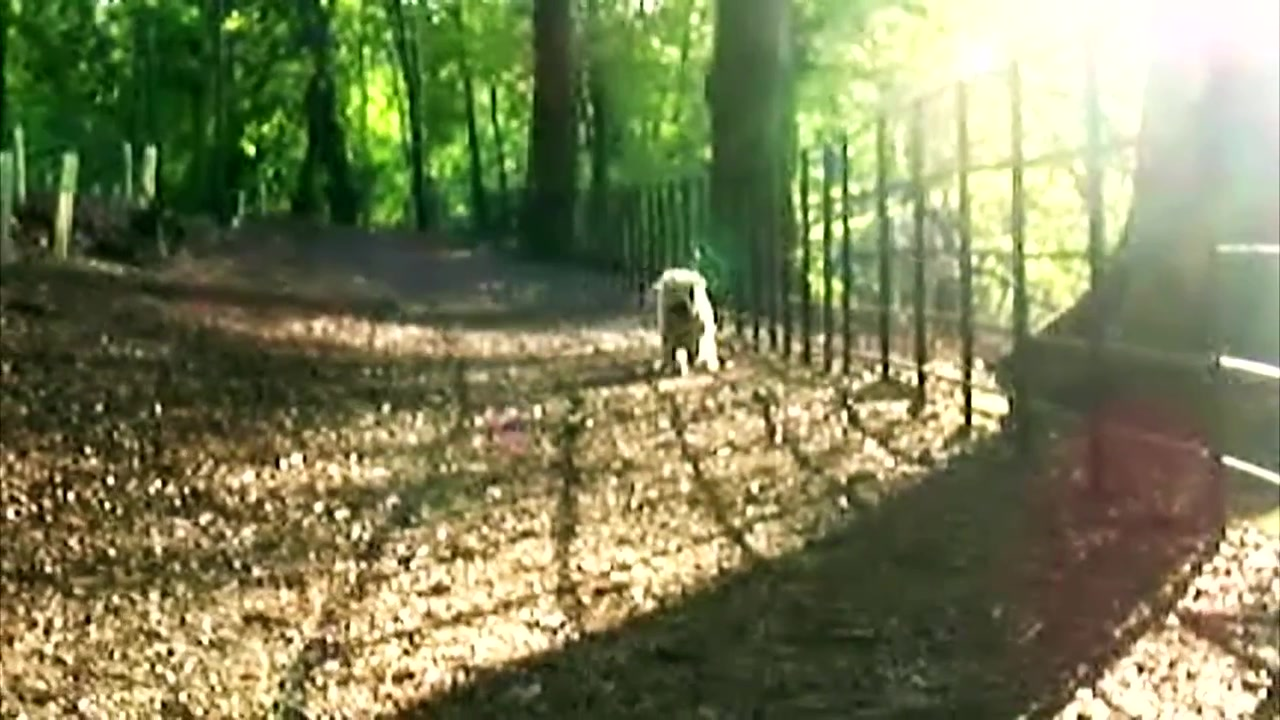dog: (649, 266, 723, 378)
